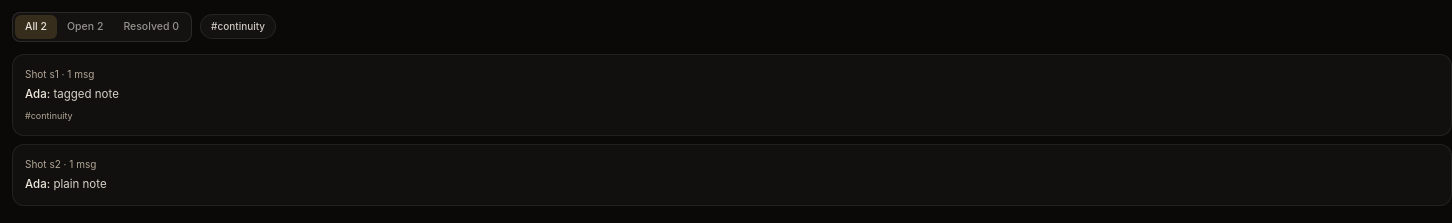
Test: AnnotationHub › filters by tag
The width and height of the screenshot is (1452, 223).
What coordinates should you click on to do the following:
click the button "#continuity"
I would click on:
 (238, 27)
Its box is [200,14,276,39].
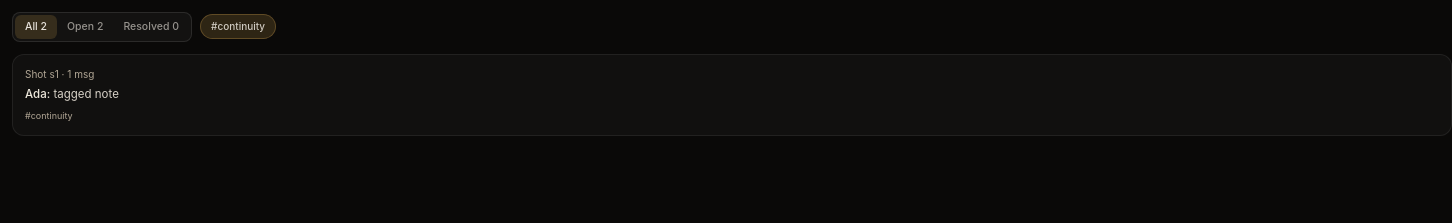
Expected: the text "Ada: tagged note" is shown, [25,87,119,101]
Result: the text "plain note" is gone
